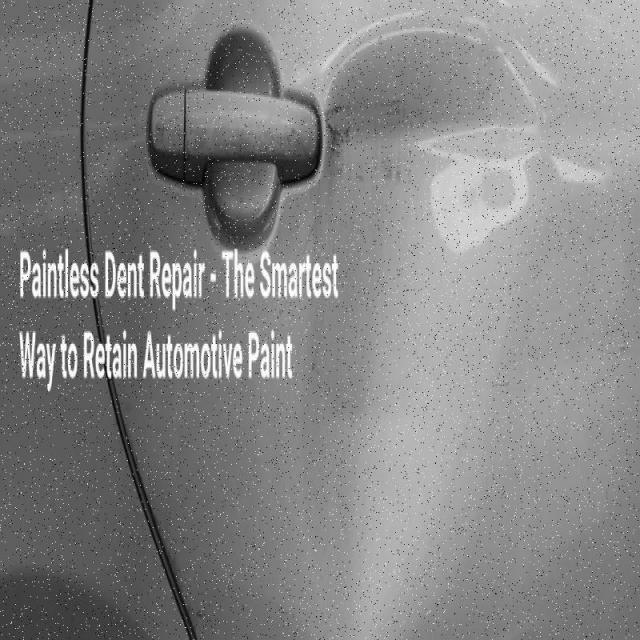dent: (298, 19, 530, 640)
